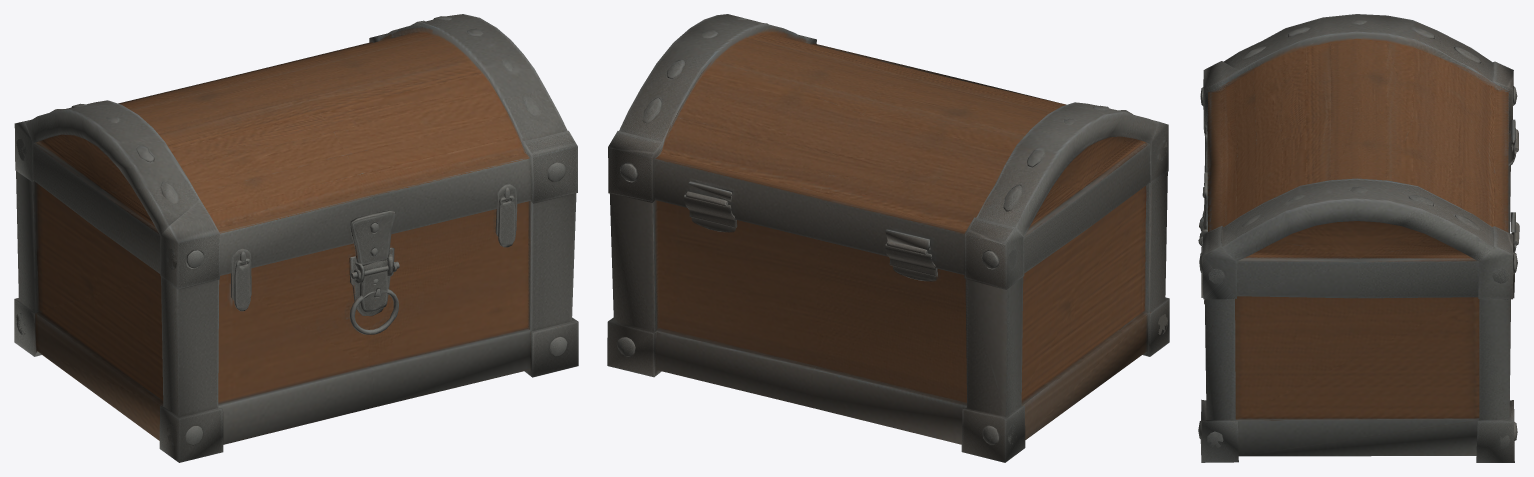
File: SupplyChest.glb
3 renders of one model, left to right at view 1: azimuth 30°, elevation 25°; view 2: azimuth 150°, elevation 25°; view 3: azimuth 270°, elevation 25°, orthographic. The views are drawn at different scales.
Size of the model in its own units: 1 by 0.6734 by 0.7352.
Materials: 1 (1 with a texture image).
